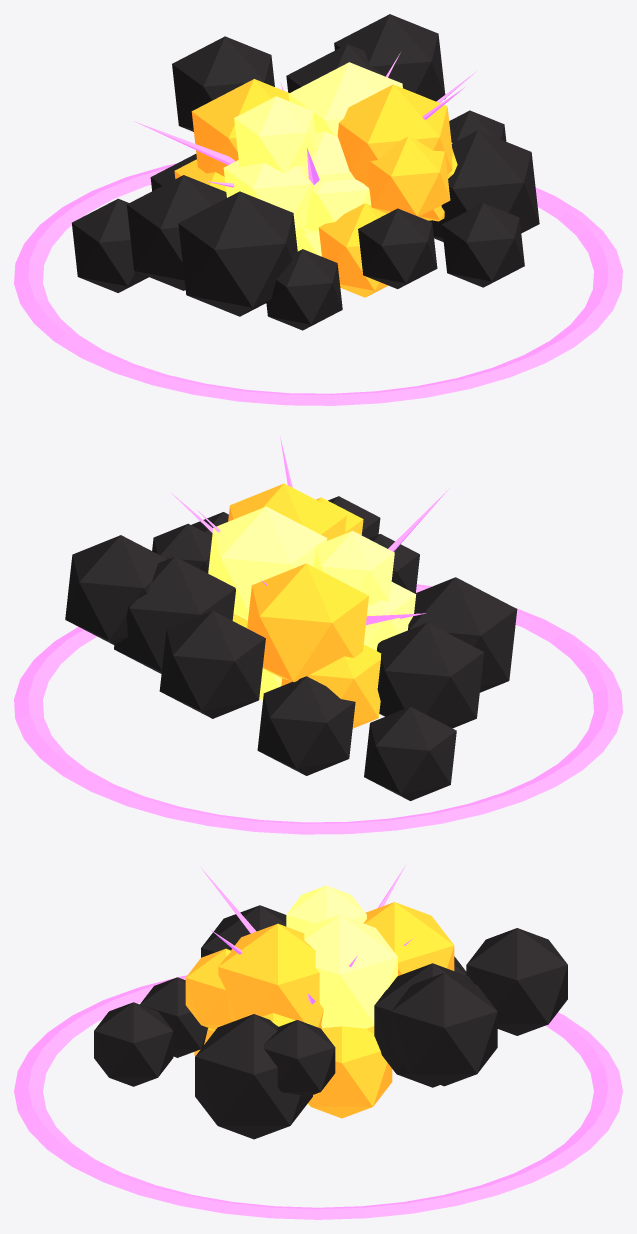
File: fx_bomb_blast.glb
3 renders of one model, top to bottom at view 1: azimuth 30°, elevation 25°; view 2: azimuth 150°, elevation 25°; view 3: azimuth 270°, elevation 25°, orthographic.
Visible parts, largest first — view 1: Shockwave, SmokePuff_7, SmokePuff_11, FirePuff_9, SmokePuff_6, SmokePuff_10, SmokePuff_1, SmokePuff_3, FirePuff_4, SmokePuff_9, FirePuff_13, SmokePuff_5 (+11 smaller); view 2: Shockwave, FirePuff_5, SmokePuff_3, SmokePuff_6, SmokePuff_4, SmokePuff_1, FirePuff_1, SmokePuff_2, SmokePuff_5, SmokePuff_7, FirePuff_13, FirePuff_15 (+5 smaller); view 3: Shockwave, SmokePuff_1, SmokePuff_11, FirePuff_9, SmokePuff_3, FirePuff_1, SmokePuff_10, FirePuff_12, SmokePuff_0, FirePuff_5, FirePuff_4, SmokePuff_9 (+3 smaller).
Boxes of the visible parts, <box> form: Shockwave: <box>14,163,622,405</box>; SmokePuff_7: <box>178,191,297,316</box>; SmokePuff_11: <box>429,130,539,241</box>; FirePuff_9: <box>337,84,452,189</box>; SmokePuff_6: <box>127,175,226,290</box>; SmokePuff_10: <box>442,203,524,287</box>; SmokePuff_1: <box>334,14,445,101</box>; SmokePuff_3: <box>172,36,274,131</box>; FirePuff_4: <box>367,136,450,216</box>; SmokePuff_9: <box>358,208,437,289</box>; FirePuff_13: <box>234,96,315,172</box>; SmokePuff_5: <box>72,198,148,292</box>; Shockwave: <box>14,584,622,834</box>; FirePuff_5: <box>247,563,368,681</box>; SmokePuff_3: <box>159,610,265,718</box>; SmokePuff_6: <box>377,622,484,728</box>; SmokePuff_4: <box>257,676,355,775</box>; SmokePuff_1: <box>65,535,167,644</box>; FirePuff_1: <box>208,506,327,620</box>; SmokePuff_2: <box>114,556,235,673</box>; SmokePuff_5: <box>364,706,456,800</box>; SmokePuff_7: <box>408,577,517,692</box>; FirePuff_13: <box>313,531,394,605</box>; FirePuff_15: <box>281,644,381,728</box>; Shockwave: <box>14,975,622,1219</box>; SmokePuff_1: <box>391,973,497,1086</box>; SmokePuff_11: <box>195,1014,312,1139</box>; FirePuff_9: <box>218,923,323,1028</box>; SmokePuff_3: <box>466,928,567,1035</box>; FirePuff_1: <box>301,914,397,1028</box>; SmokePuff_10: <box>94,1002,173,1086</box>; FirePuff_12: <box>308,1026,392,1118</box>; SmokePuff_0: <box>264,1020,335,1098</box>; FirePuff_5: <box>363,902,454,975</box>; FirePuff_4: <box>185,948,231,1030</box>; SmokePuff_9: <box>140,977,207,1057</box>.
Size of the model in its own units: 2.1 by 0.8688 by 2.1.
